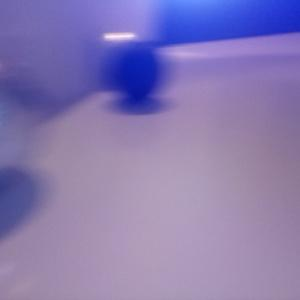alive_ball: (1, 73, 38, 186), (92, 31, 144, 82)
dead_ball: (105, 44, 161, 101)
